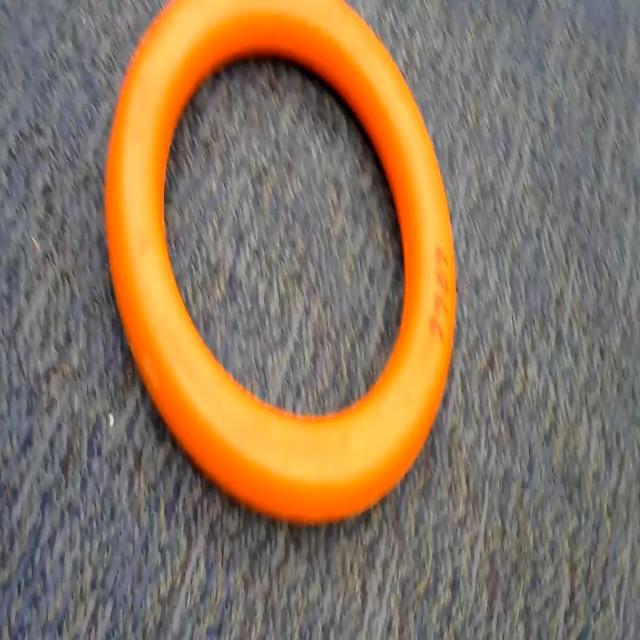note: (89, 0, 472, 540)
